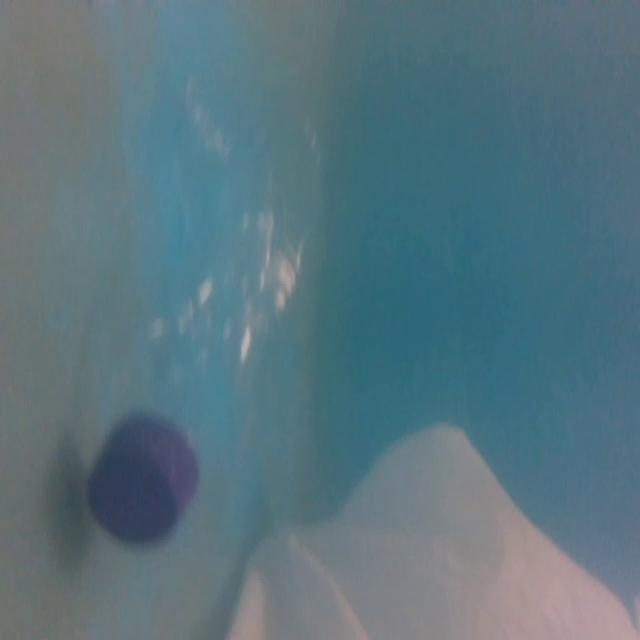plastic bags: (85, 116, 326, 550), (230, 418, 640, 640)
